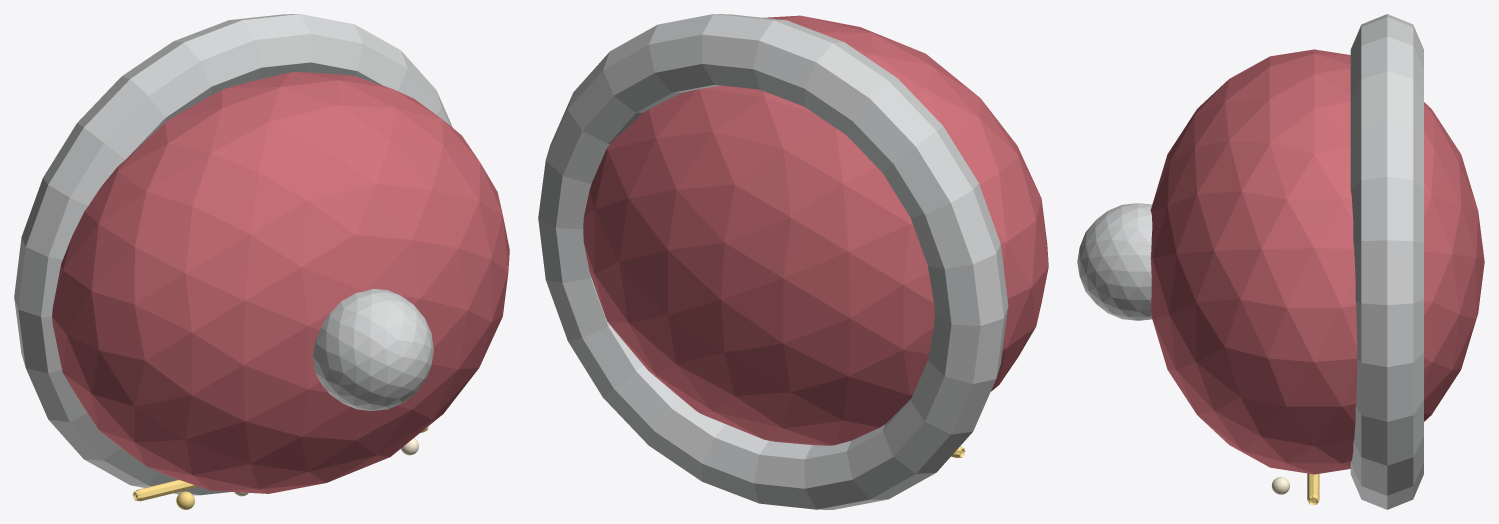
The model's file is gorro-lana.glb.
The picture shows the model from 3 angles, left to right: view 1: azimuth 30°, elevation 25°; view 2: azimuth 150°, elevation 25°; view 3: azimuth 270°, elevation 25°; orthographic projection. The views are drawn at different scales.
Parts seen in each view (by area): view 1: gorro-lana_00, gorro-lana_01, gorro-lana_02, Detalle_01; view 2: gorro-lana_00, gorro-lana_01; view 3: gorro-lana_00, gorro-lana_01, gorro-lana_02.
Boxes of the visible parts, left/top/right/bottom form: gorro-lana_00: left=52, top=72, right=509, bottom=493; gorro-lana_01: left=14, top=14, right=452, bottom=495; gorro-lana_02: left=313, top=289, right=433, bottom=410; Detalle_01: left=132, top=426, right=428, bottom=501; gorro-lana_00: left=583, top=15, right=1048, bottom=445; gorro-lana_01: left=538, top=14, right=1008, bottom=509; gorro-lana_00: left=1150, top=49, right=1484, bottom=474; gorro-lana_01: left=1350, top=14, right=1423, bottom=509; gorro-lana_02: left=1077, top=203, right=1152, bottom=320.
Bounding box in the file's own units: 0.639 × 0.639 × 0.5229.
